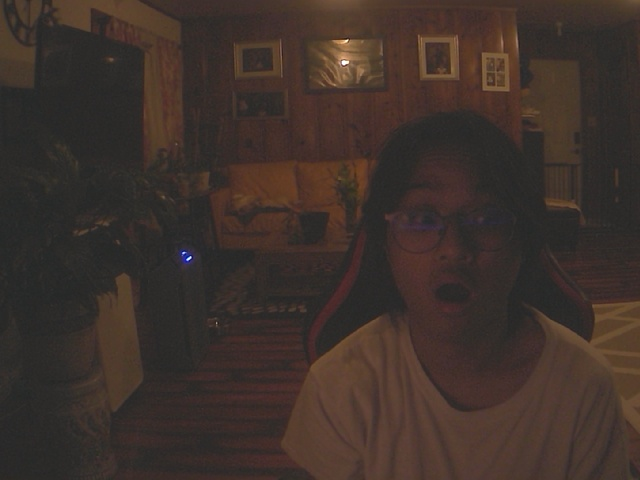fear: (367, 114, 548, 340)
